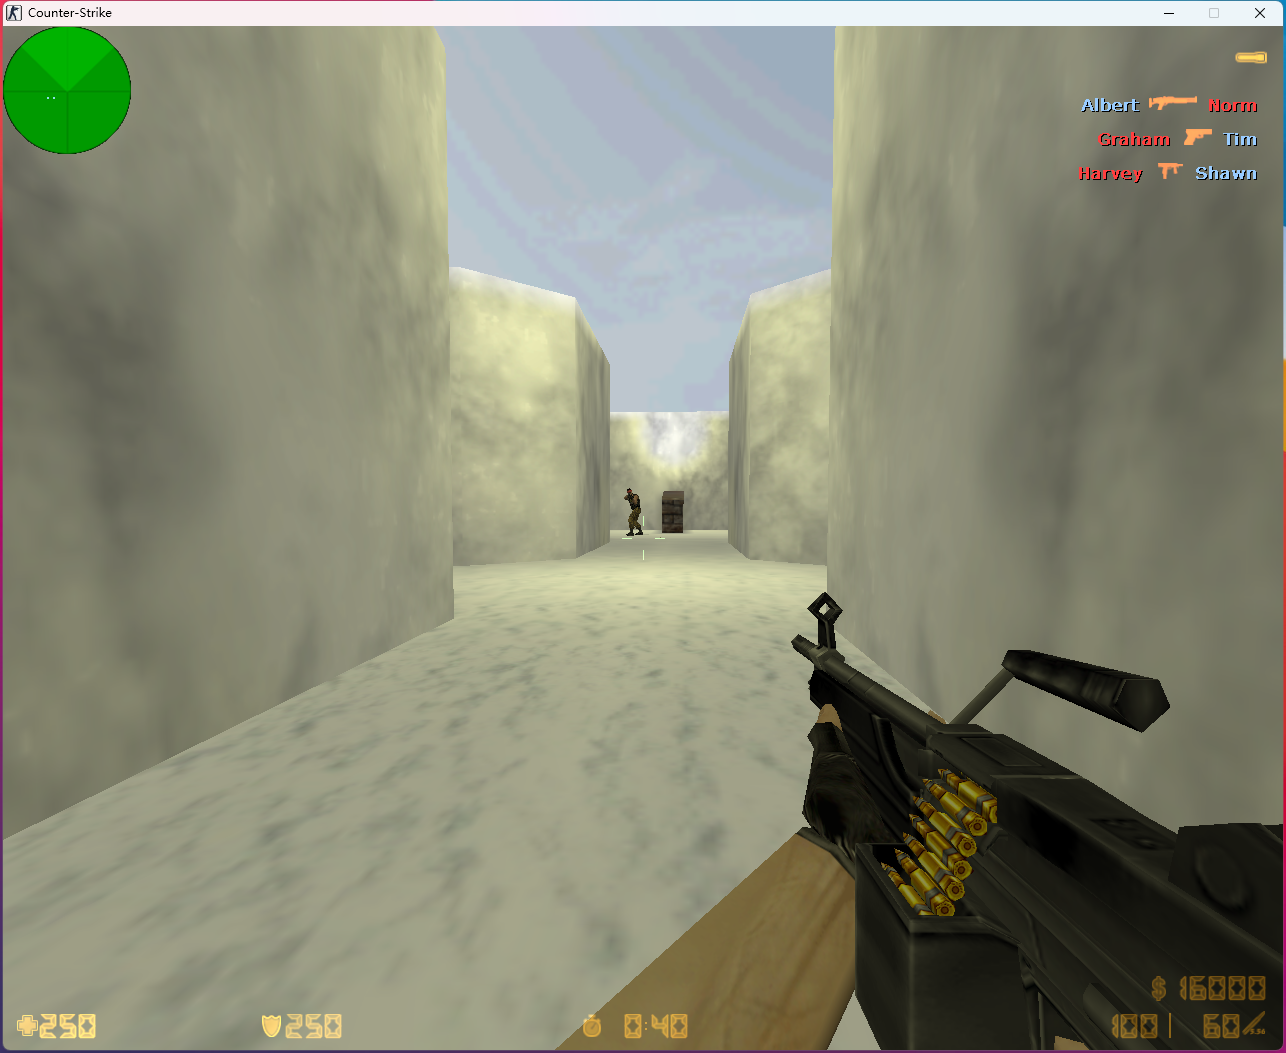T: (622, 488, 642, 535)
